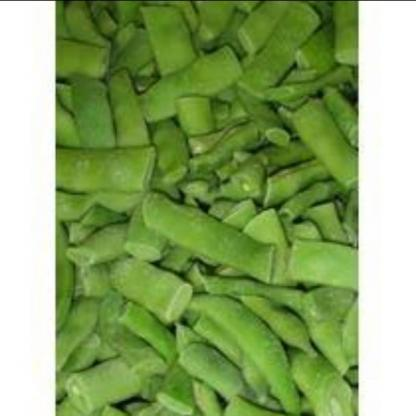beans: (48, 2, 365, 415)
